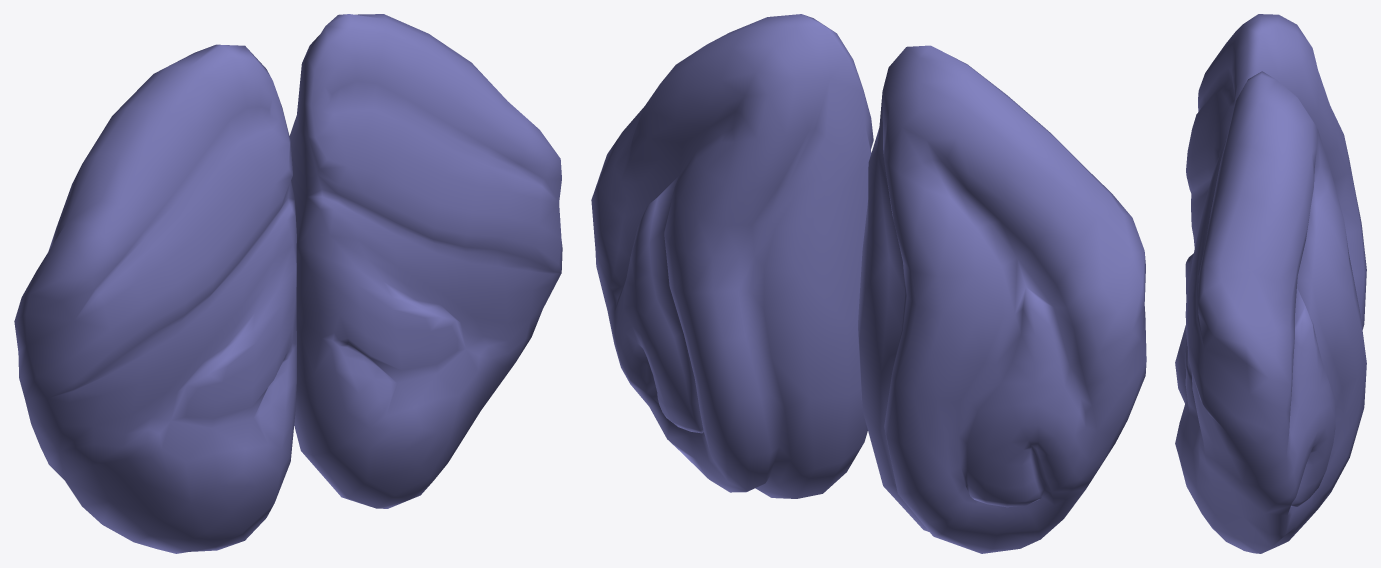
File: Occipital_Lob_Trans.gltf
3 views of the same model, side by side, from view 1: azimuth 30°, elevation 25°; view 2: azimuth 150°, elevation 25°; view 3: azimuth 270°, elevation 25° (orthographic). The views are drawn at different scales.
Visible parts, largest first — view 1: Occipital_Lob_Right, Occipital_Lob_Left; view 2: Occipital_Lob_Right, Occipital_Lob_Left; view 3: Occipital_Lob_Left, Occipital_Lob_Right.
Part boxes in pixels (left/top/right/bottom): Occipital_Lob_Right: left=14, top=44, right=296, bottom=553; Occipital_Lob_Left: left=289, top=14, right=562, bottom=508; Occipital_Lob_Right: left=858, top=45, right=1146, bottom=553; Occipital_Lob_Left: left=591, top=14, right=873, bottom=498; Occipital_Lob_Left: left=1175, top=71, right=1366, bottom=553; Occipital_Lob_Right: left=1175, top=14, right=1366, bottom=403.
Bounding box in the file's own units: 8.52 × 7.45 × 2.87.
